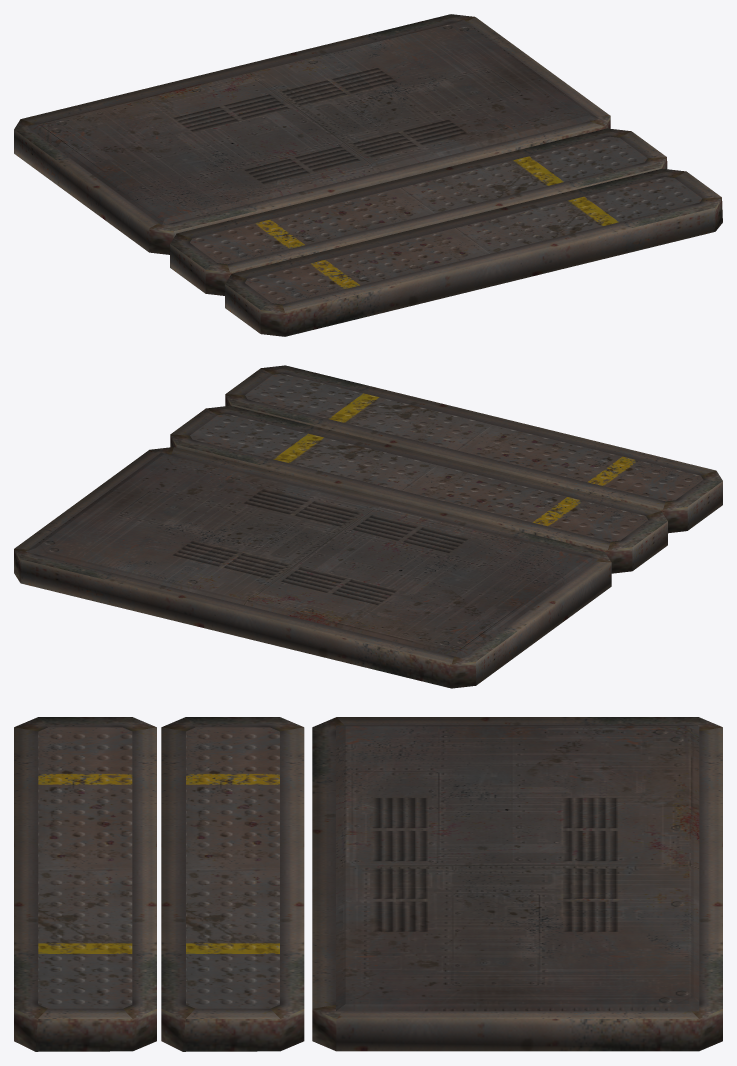
Rendered from Floor_E_2'5qmts_00.fbx.
The picture shows the model from 3 angles, top to bottom: view 1: azimuth 30°, elevation 25°; view 2: azimuth 150°, elevation 25°; view 3: azimuth 270°, elevation 25°; orthographic projection. The views are drawn at different scales.
Parts seen in each view (by area): view 1: Floor_E_2'5qmts_00; view 2: Floor_E_2'5qmts_00; view 3: Floor_E_2'5qmts_00.
Boxes of the visible parts, <box> form: Floor_E_2'5qmts_00: <box>14,14,722,336</box>; Floor_E_2'5qmts_00: <box>14,365,722,688</box>; Floor_E_2'5qmts_00: <box>14,717,722,1051</box>.
Size of the model in its own units: 250 by 13.99 by 248.
1 material, 1 textured.
